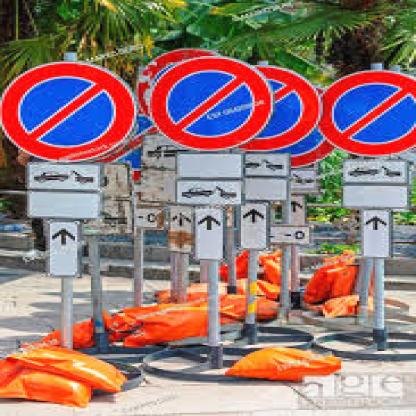No parking: (148, 54, 291, 152), (1, 56, 139, 155), (300, 66, 416, 151)
